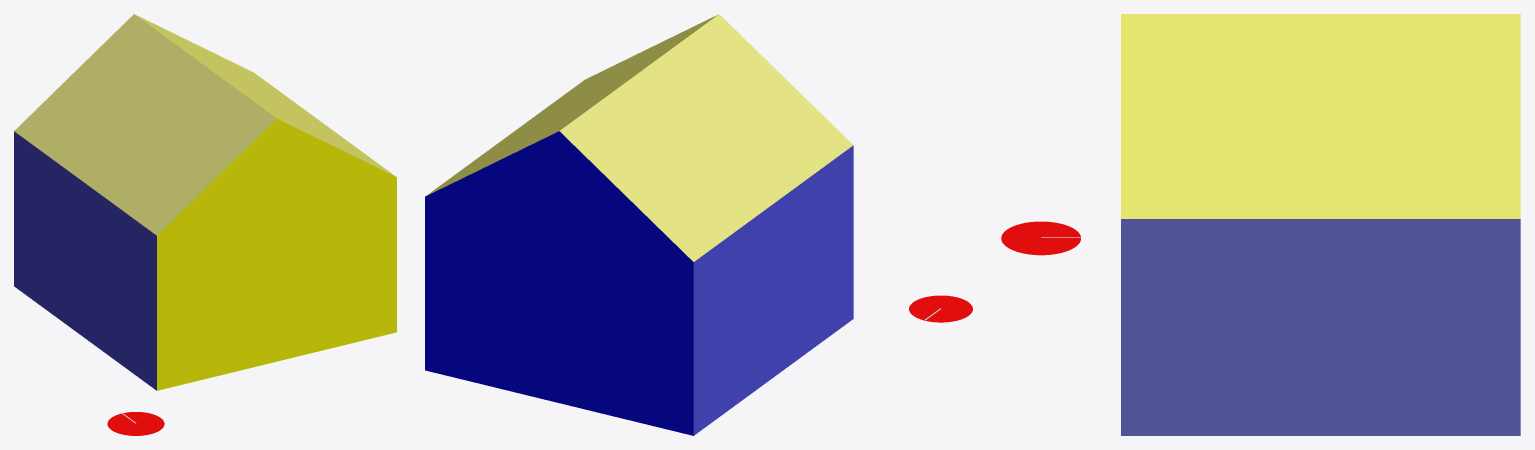
Rendered from result.glb.
The picture shows the model from 3 angles, left to right: view 1: azimuth 30°, elevation 25°; view 2: azimuth 150°, elevation 25°; view 3: azimuth 270°, elevation 25°; orthographic projection. The views are drawn at different scales.
Parts seen in each view (by area): view 1: bd4f58a1-32e7-4247-b755-76b3c660b3eb__undefined, 45ad1cbc-17bb-4eca-b57e-5e4236ab1228__undefined, 0c877613-3464-4f9f-bf0b-d5024f2583bd__undefined, 3c9fc6c6-c66d-4d84-a1e7-c2ec07a96f4b__undefined, c667a5b4-c08e-4262-947c-953934daf598__Circle; view 2: 687e8d6c-2c40-4ad4-8853-18d397654d09__undefined, 45ad1cbc-17bb-4eca-b57e-5e4236ab1228__undefined, 0c877613-3464-4f9f-bf0b-d5024f2583bd__undefined, 3c9fc6c6-c66d-4d84-a1e7-c2ec07a96f4b__undefined, c667a5b4-c08e-4262-947c-953934daf598__Circle; view 3: 1bd22c08-1360-4354-a3df-3c965b646e73__undefined, 3c9fc6c6-c66d-4d84-a1e7-c2ec07a96f4b__undefined, c667a5b4-c08e-4262-947c-953934daf598__Circle.
Boxes of the visible parts, x1,y1,x2,y2 form: bd4f58a1-32e7-4247-b755-76b3c660b3eb__undefined: (157, 119, 396, 390); 45ad1cbc-17bb-4eca-b57e-5e4236ab1228__undefined: (14, 14, 276, 235); 0c877613-3464-4f9f-bf0b-d5024f2583bd__undefined: (14, 131, 156, 390); 3c9fc6c6-c66d-4d84-a1e7-c2ec07a96f4b__undefined: (136, 15, 395, 176); c667a5b4-c08e-4262-947c-953934daf598__Circle: (107, 412, 164, 435); 687e8d6c-2c40-4ad4-8853-18d397654d09__undefined: (425, 131, 693, 435); 45ad1cbc-17bb-4eca-b57e-5e4236ab1228__undefined: (559, 14, 853, 261); 0c877613-3464-4f9f-bf0b-d5024f2583bd__undefined: (693, 145, 853, 435); 3c9fc6c6-c66d-4d84-a1e7-c2ec07a96f4b__undefined: (426, 15, 717, 195); c667a5b4-c08e-4262-947c-953934daf598__Circle: (909, 295, 972, 322); 1bd22c08-1360-4354-a3df-3c965b646e73__undefined: (1121, 219, 1520, 435); 3c9fc6c6-c66d-4d84-a1e7-c2ec07a96f4b__undefined: (1121, 14, 1520, 218); c667a5b4-c08e-4262-947c-953934daf598__Circle: (1001, 221, 1080, 255).
Bounding box in the file's own units: 635 × 469 × 650.
